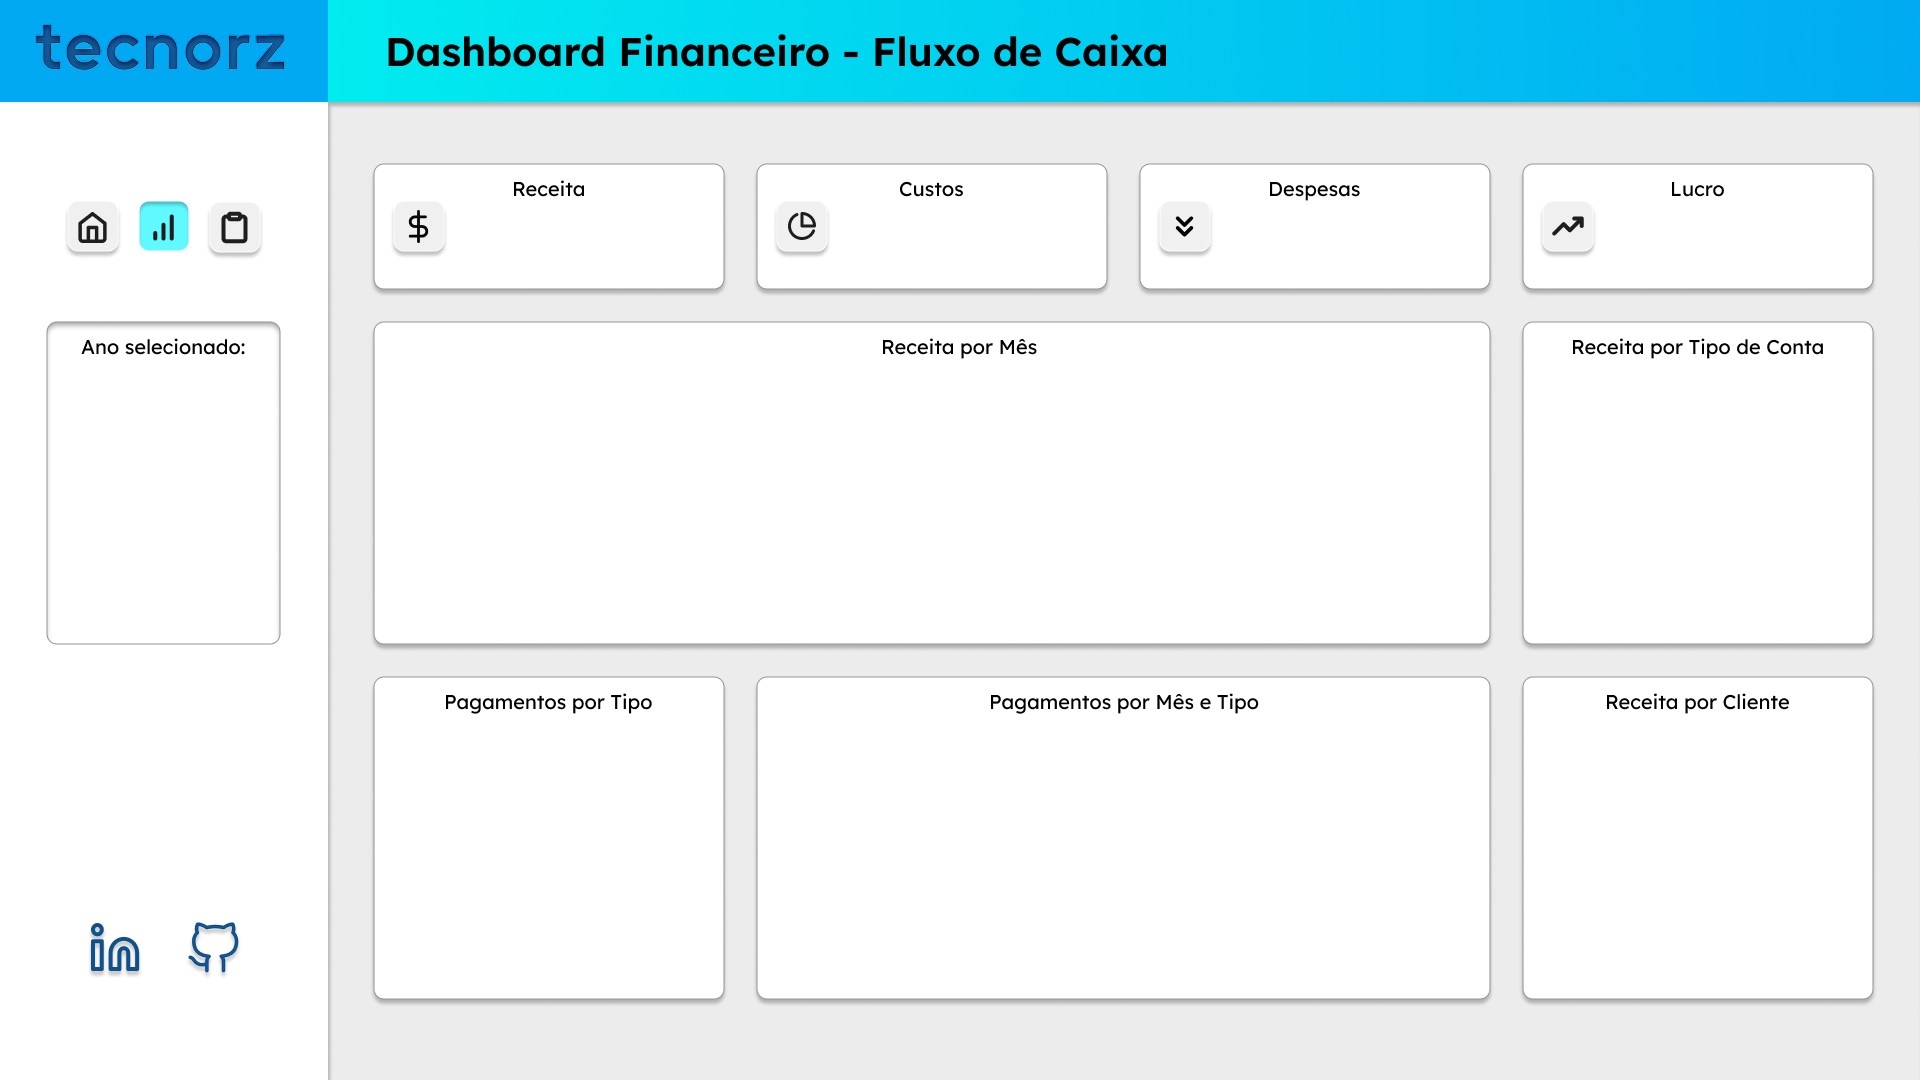

The dashboard page shown, as its layout file describes it:
{"tool":"powerbi","page":{"name":"Visão Geral","canvas":[1280,720],"ordinal":0},"visuals":[{"type":"card","fields":{"Values":["Medidas.Receitas"]},"box":[300.5,134.2,164.4,38.9],"z":0},{"type":"card","fields":{"Values":["Medidas.Custos"]},"box":[556.4,134.2,164.4,38.9],"z":1000},{"type":"card","fields":{"Values":["Medidas.Despesas"]},"box":[810.2,134.2,164.4,38.9],"z":2000},{"type":"card","fields":{"Values":["Medidas.Lucro"]},"box":[1066,134.2,164.4,38.9],"z":3000},{"type":"columnChart","fields":{"Category":["dCalendario.MesAbreviado"],"Y":["Medidas.Receitas"]},"box":[250,239.3,743.1,189.7],"z":4000},{"type":"donutChart","fields":{"Category":["dPlanoContas.conta"],"Y":["Medidas.Receitas"]},"box":[1015.4,239.3,233.4,189.7],"z":5000},{"type":"donutChart","fields":{"Category":["dPlanoContas.tipo"],"Y":["Medidas.Despesas"]},"box":[250,476.6,233.4,189.7],"z":6000},{"type":"hundredPercentStackedColumnChart","fields":{"Category":["dCalendario.MesAbreviado"],"Y":["Medidas.Despesas"],"Series":["dPlanoContas.tipo"]},"box":[504.5,476.2,488.6,189.8],"z":7000},{"type":"barChart","fields":{"Category":["fRecebimentos.cliente"],"Y":["Medidas.Receitas"]},"box":[1015.4,476.6,233.4,189.7],"z":8000},{"type":"slicer","fields":{"Values":["dCalendario.Ano"]},"box":[31.1,239.3,155.6,189.7],"z":9000}]}

Visuals, with their boxes in screenshot pixels (x1, y1, x2, y2):
card - Medidas.Receitas: 451/181/703/240
card - Medidas.Custos: 843/181/1095/240
card - Medidas.Despesas: 1233/181/1485/240
card - Medidas.Lucro: 1625/181/1877/240
columnChart - dCalendario.MesAbreviado x Medidas.Receitas: 373/342/1513/633
donutChart - dPlanoContas.conta x Medidas.Receitas: 1547/342/1905/633
donutChart - dPlanoContas.tipo x Medidas.Despesas: 373/706/731/997
hundredPercentStackedColumnChart - dCalendario.MesAbreviado x Medidas.Despesas: 764/705/1513/996
barChart - fRecebimentos.cliente x Medidas.Receitas: 1547/706/1905/997
slicer - dCalendario.Ano: 38/342/276/633
